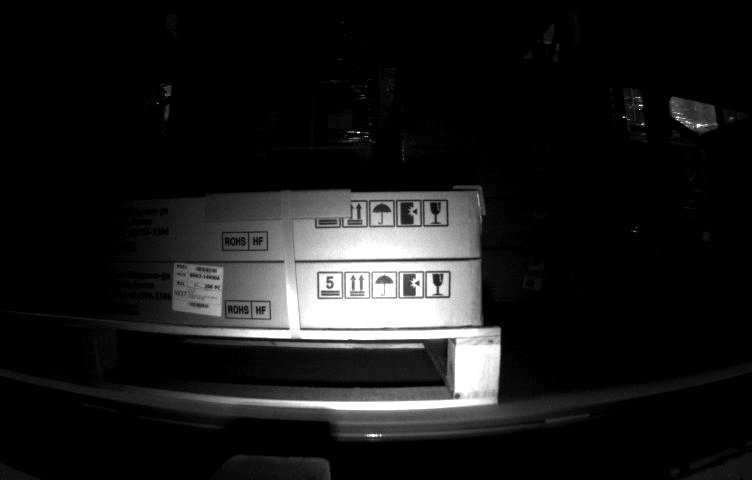True Barcode: (170, 263, 225, 316)
